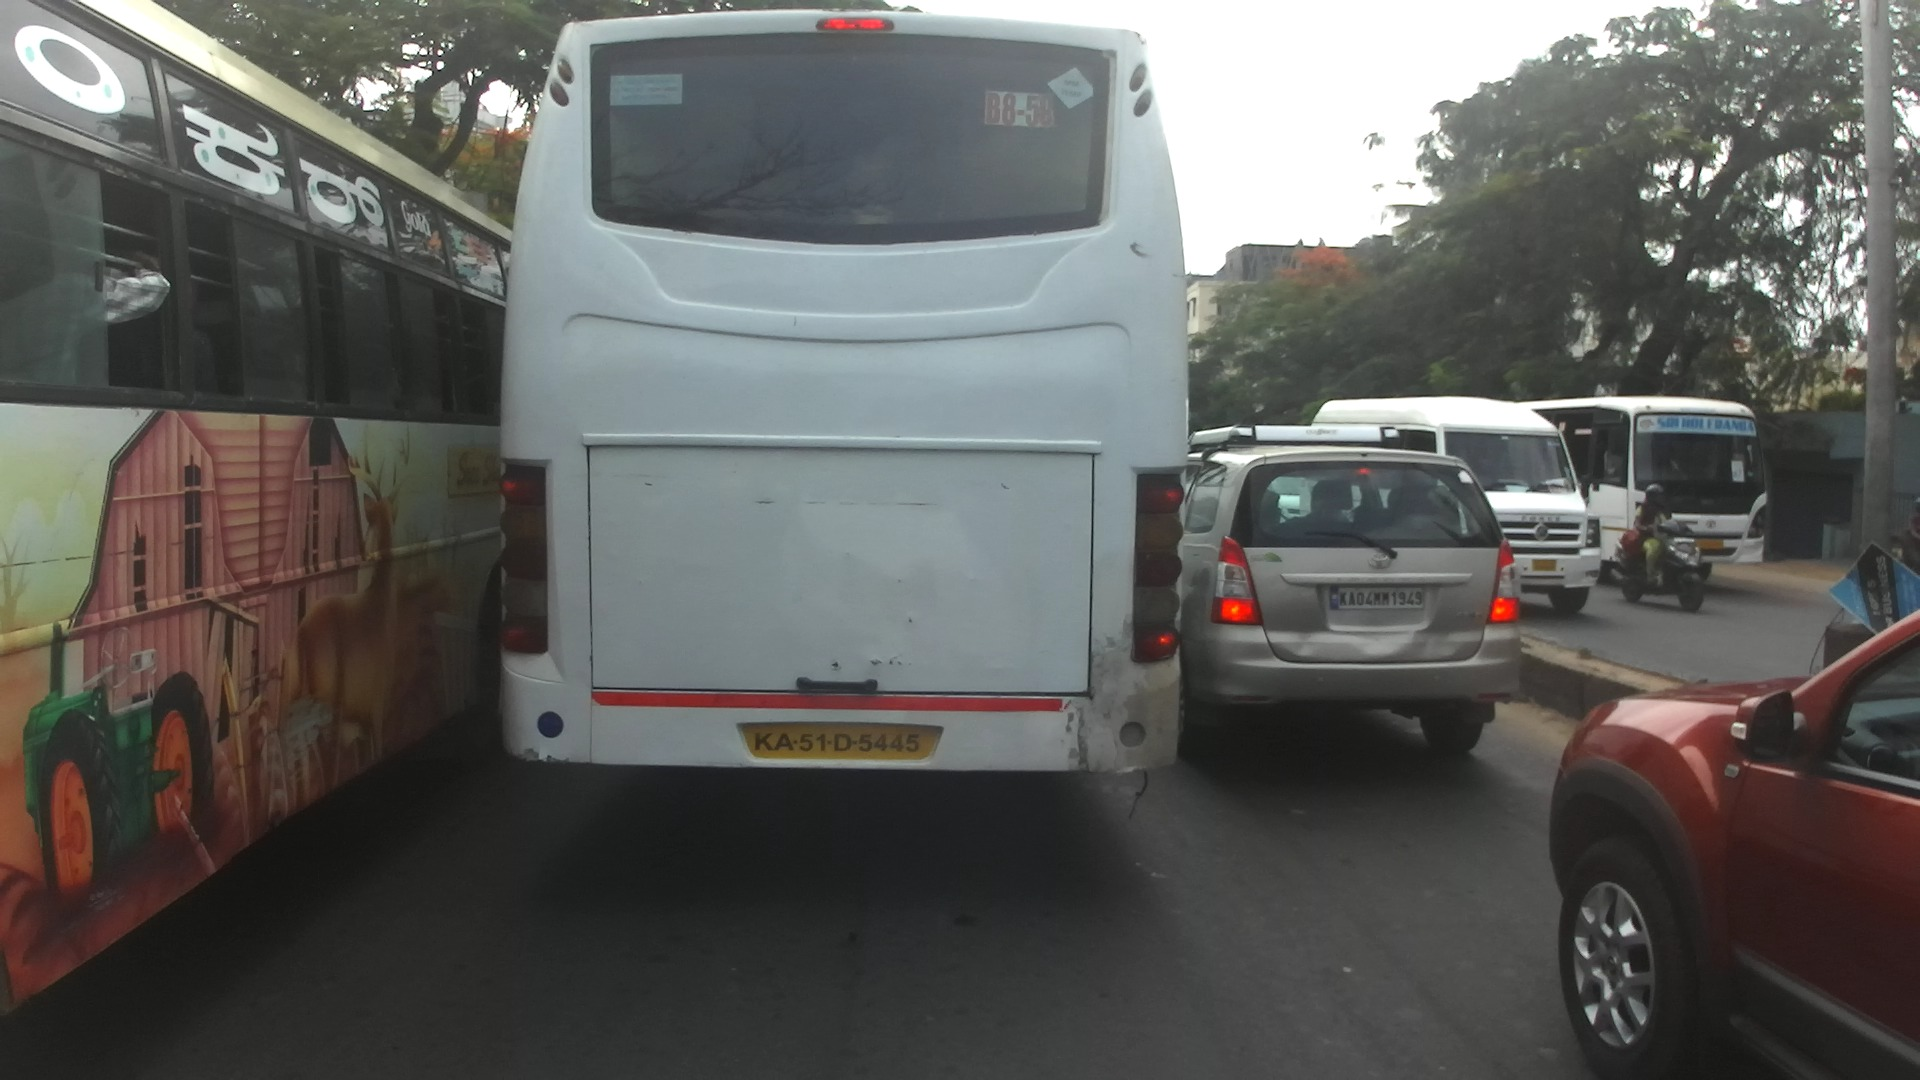bus: (500, 9, 1189, 769), (1, 1, 513, 1018), (1312, 396, 1600, 615), (1517, 395, 1766, 587)
car: (1549, 606, 1920, 1080), (1176, 422, 1518, 760)
motorcycle: (1620, 527, 1705, 613), (1901, 530, 1920, 573)
rider: (1633, 483, 1672, 590), (1908, 497, 1920, 572)
